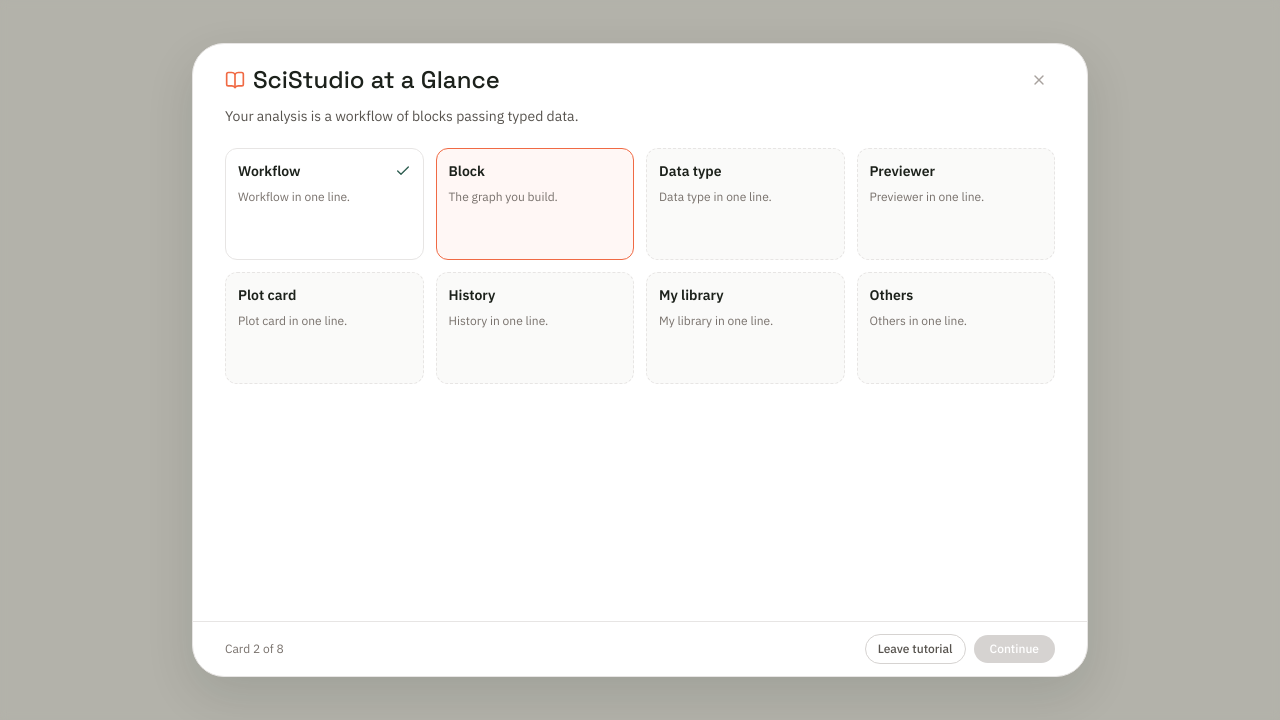
Test case: the reading grid › keeps a passed card's name and lets it be reopened
This screenshot has width=1280, height=720.
Click the button with test id "reading-card-0" at (324, 204), box [225,148,424,260]
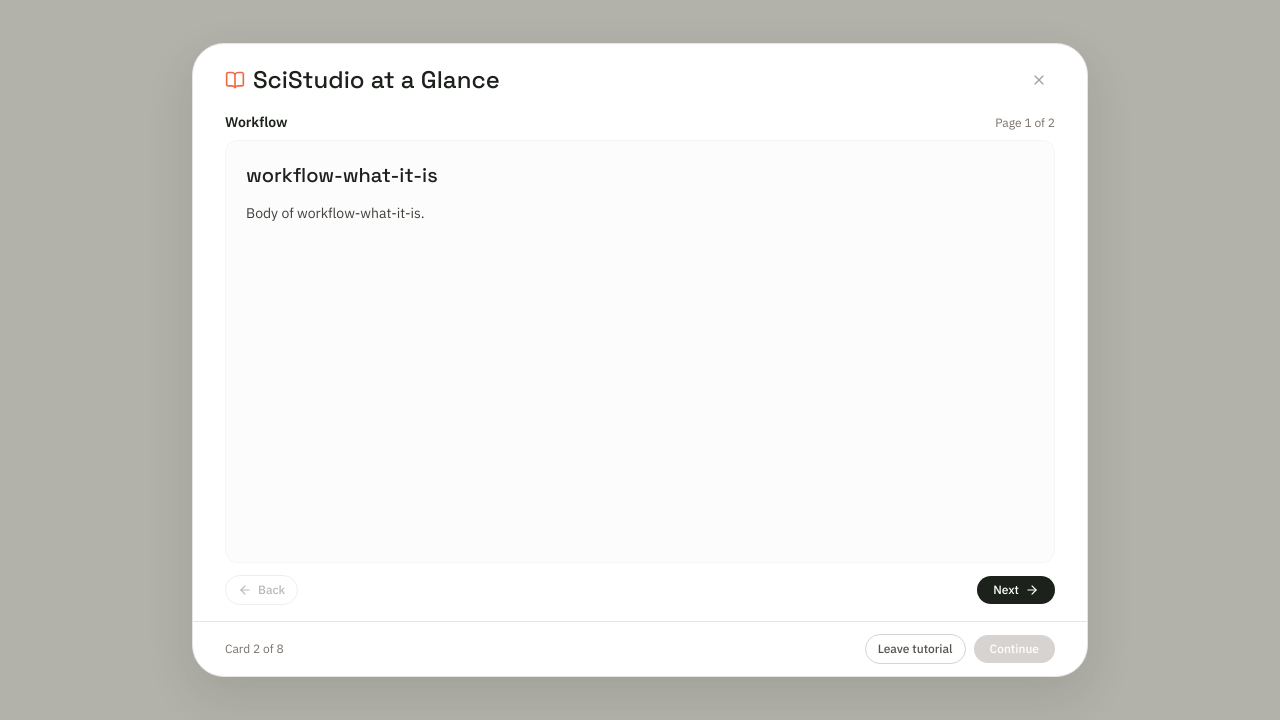
Expected: the element with test id "reading-page" shows "Page 1 of 2", [193,96,1087,621]
